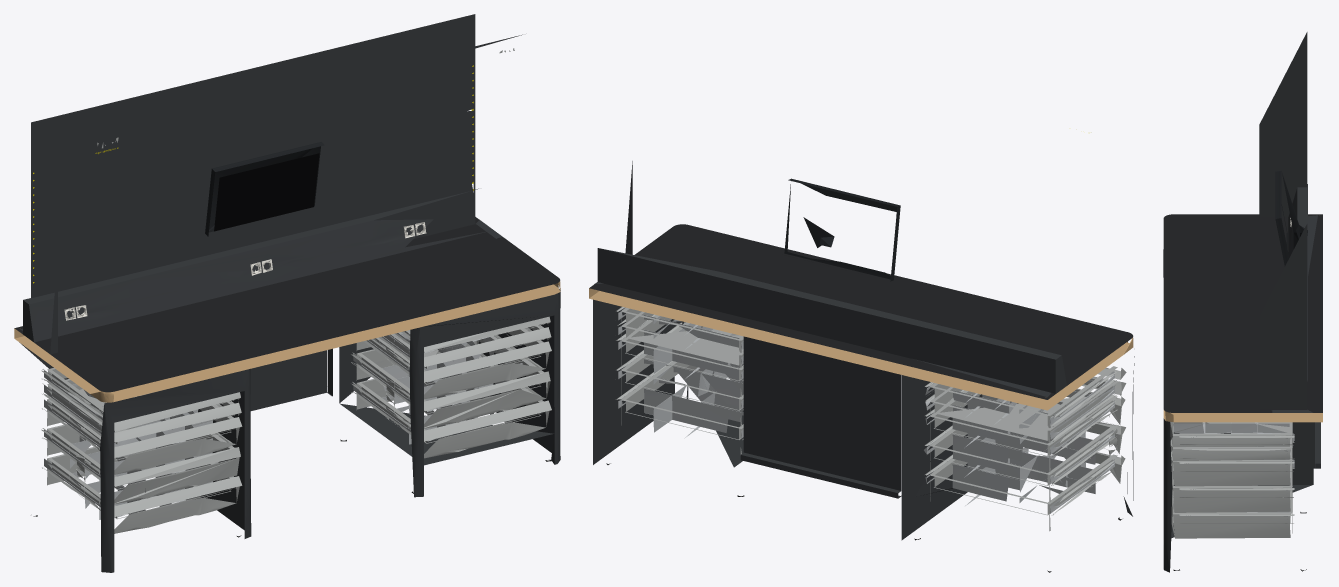
Rendered from toolstation.glb.
3 renders of one model, left to right at view 1: azimuth 30°, elevation 25°; view 2: azimuth 150°, elevation 25°; view 3: azimuth 270°, elevation 25°, orthographic. The views are drawn at different scales.
Parts seen in each view (by area): view 1: toolstation; view 2: toolstation; view 3: toolstation.
Boxes of the visible parts, x1,y1,x2,y2 form: toolstation: [14, 14, 560, 572]; toolstation: [589, 161, 1134, 572]; toolstation: [1163, 32, 1322, 572].
Bounding box in the file's own units: 2.45 × 2.1 × 0.8394.
